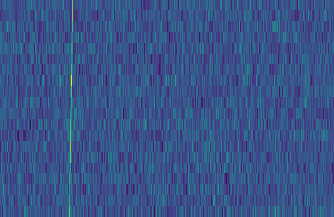signal: (63, 0, 75, 217)
